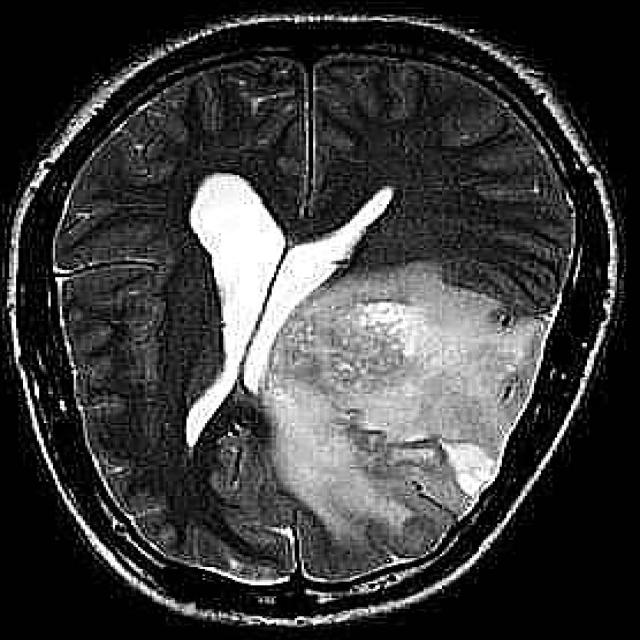Tumor-Cell: (288, 252, 538, 527)
